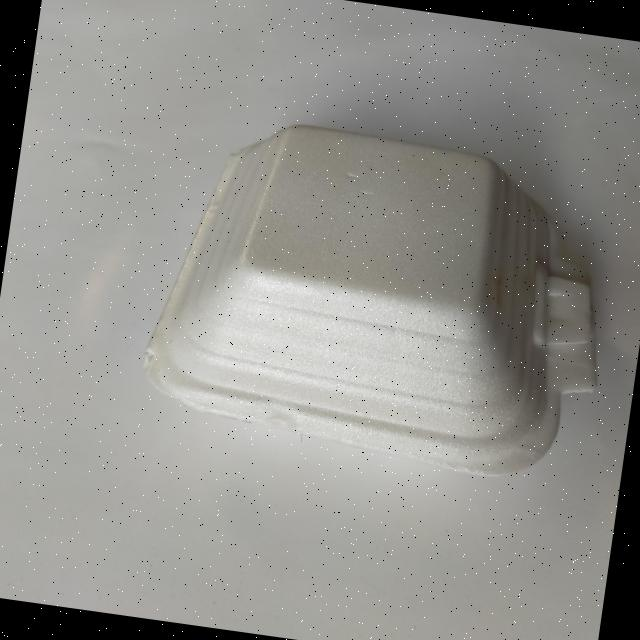styrofoam: (132, 104, 628, 491)
